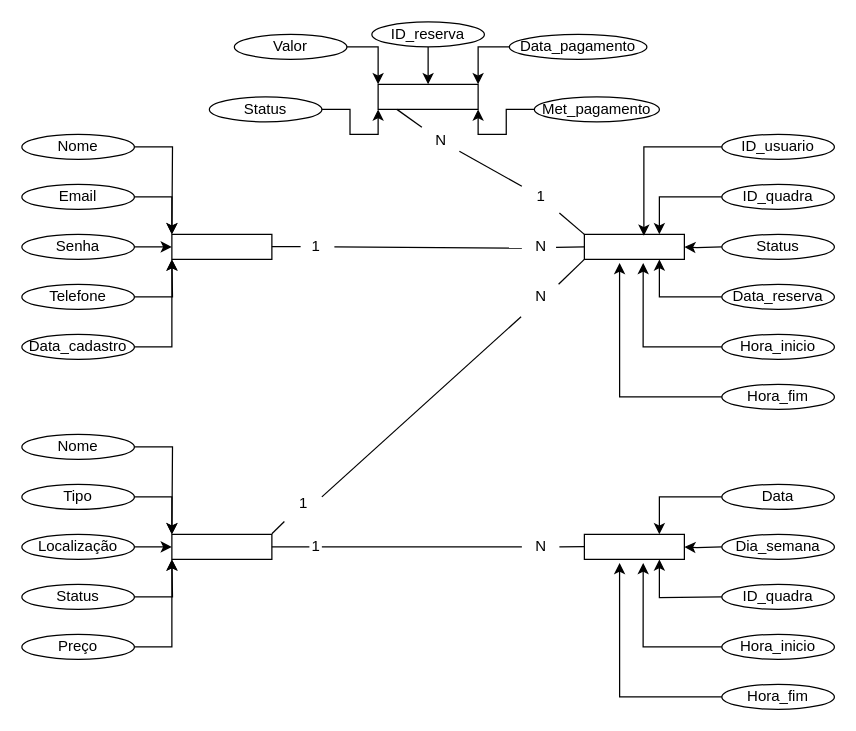
Some shapes in this 856 by 731 pixel diagram are drawn without their labels. The shapes that lost their labels are listed below. From the top down, each one's centre as x and y in pixels, then its label:
pixel 427 96: Pagamento
pixel 221 246: Usuarios
pixel 633 246: Reservas
pixel 221 546: Quadras
pixel 633 546: Horarios
